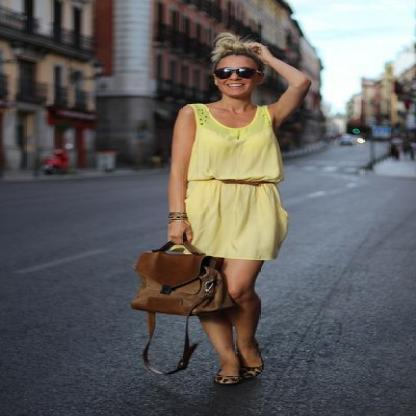bag: (131, 230, 236, 330)
dress: (183, 104, 288, 260)
sunglass: (234, 67, 261, 91)
